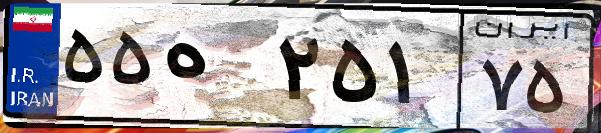1: (385, 28, 445, 110)
2: (270, 28, 330, 110)
5: (330, 28, 385, 110), (57, 26, 110, 100), (525, 38, 570, 115), (110, 28, 158, 98)
7: (475, 38, 525, 113)
ه: (158, 20, 270, 120)
